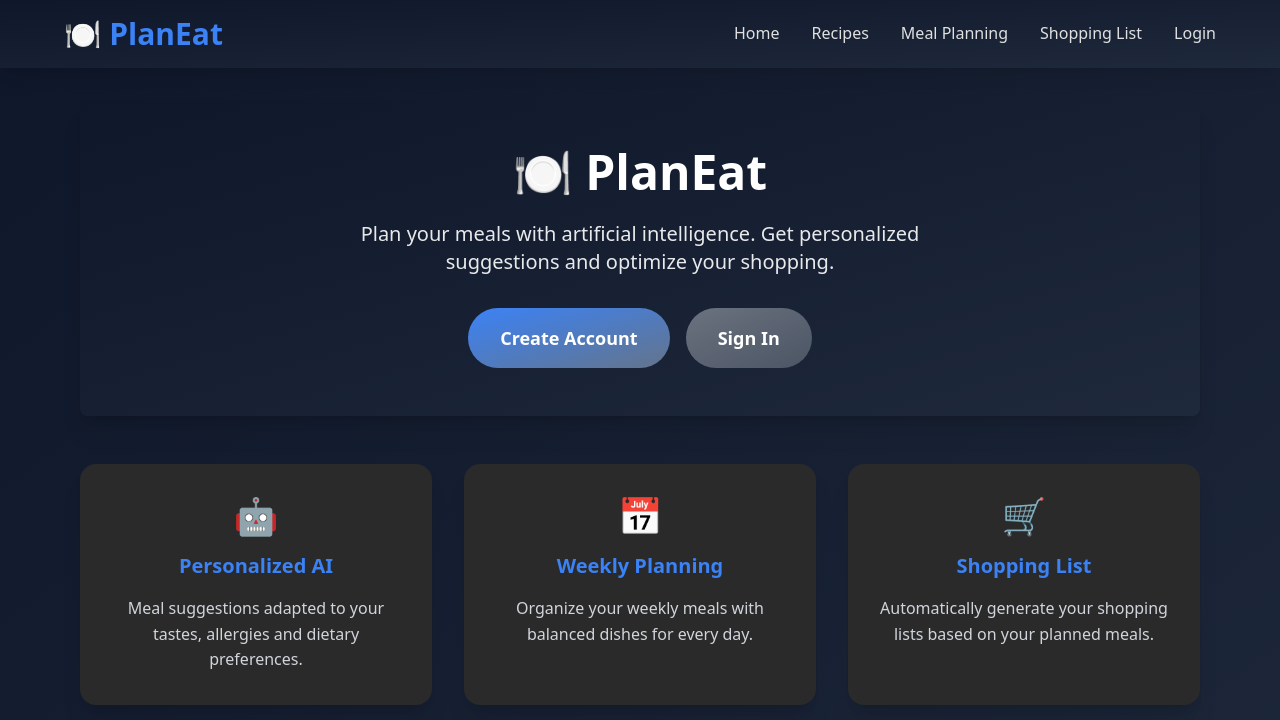
Test case: Authentication Flow › should navigate to login page with signup intent from landing page
Click the button "Create Account" at (569, 338), box x1=468 y1=308 x2=670 y2=368
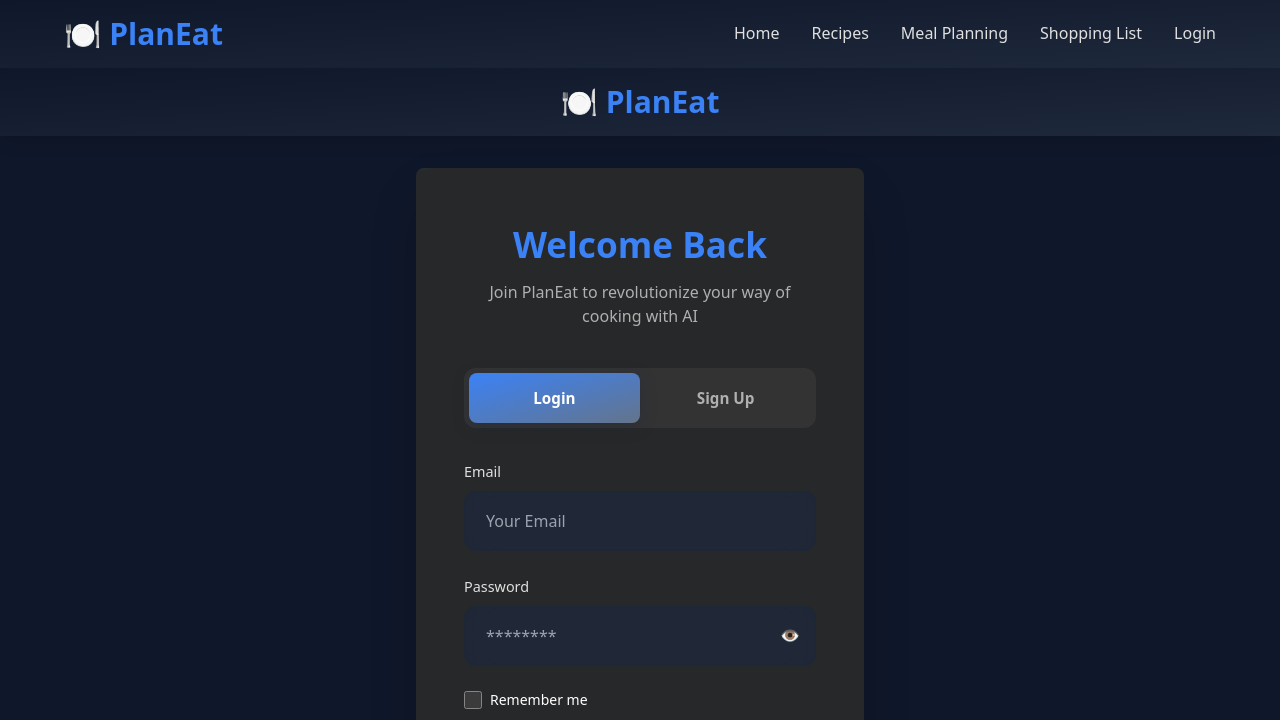
Expected: the heading "Welcome Back" is shown, x1=513 y1=220 x2=767 y2=268
